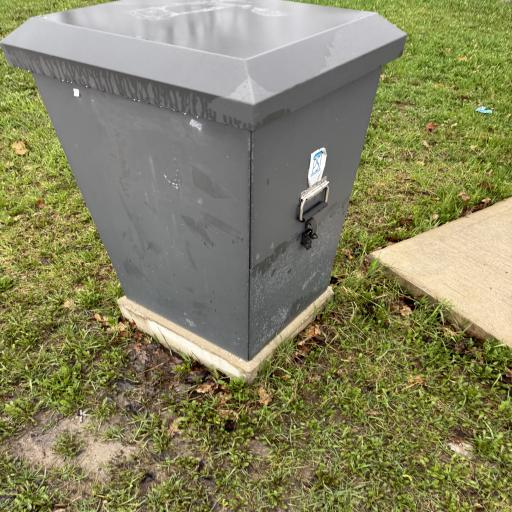Electrical Box: (1, 1, 409, 365)
